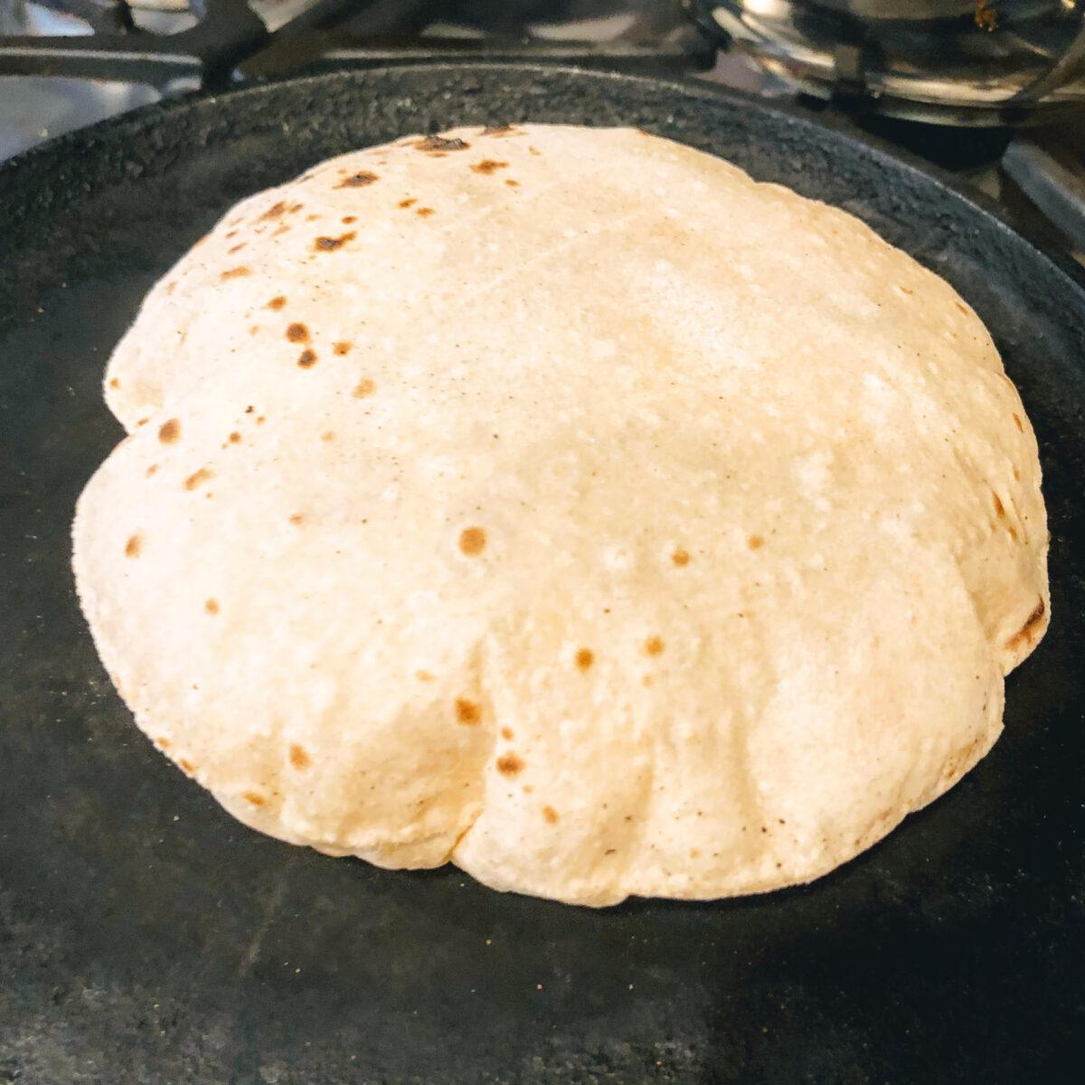roti: (72, 115, 1055, 904)
